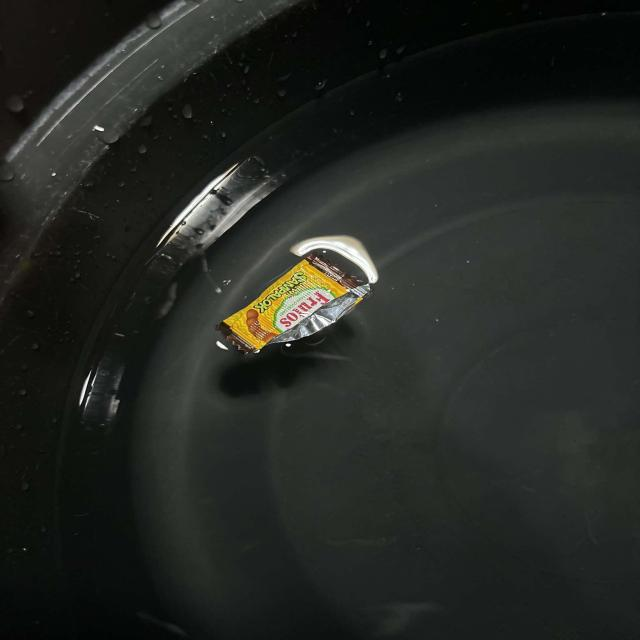Plastic Wrapper: (216, 236, 378, 354)
